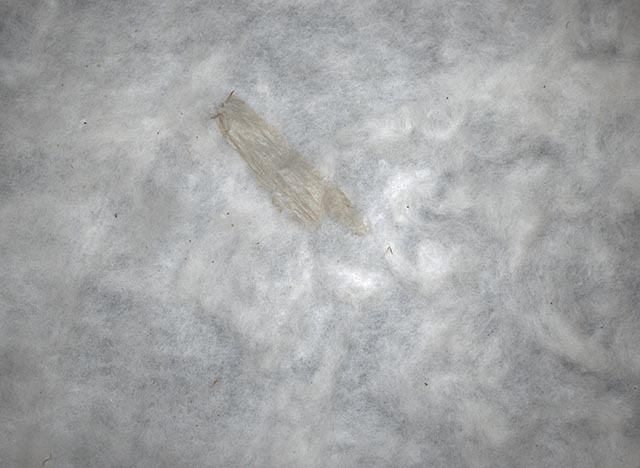plastic film: (208, 89, 373, 239)
